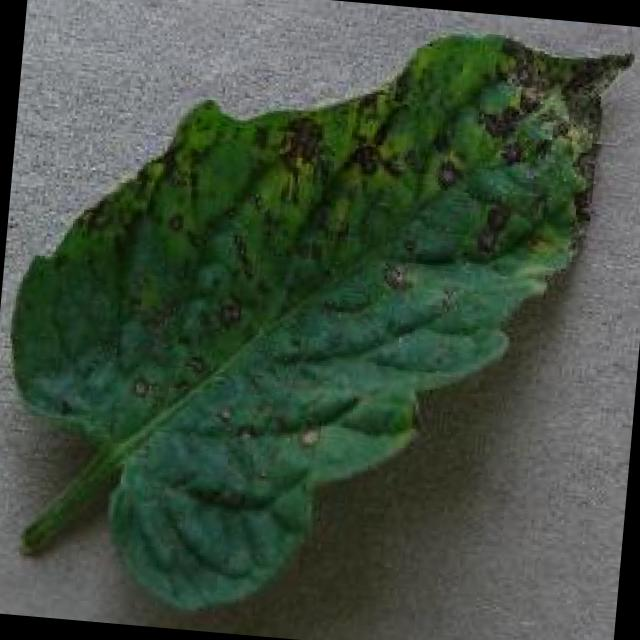Tomato_Early_Blight: (2, 0, 630, 615)
